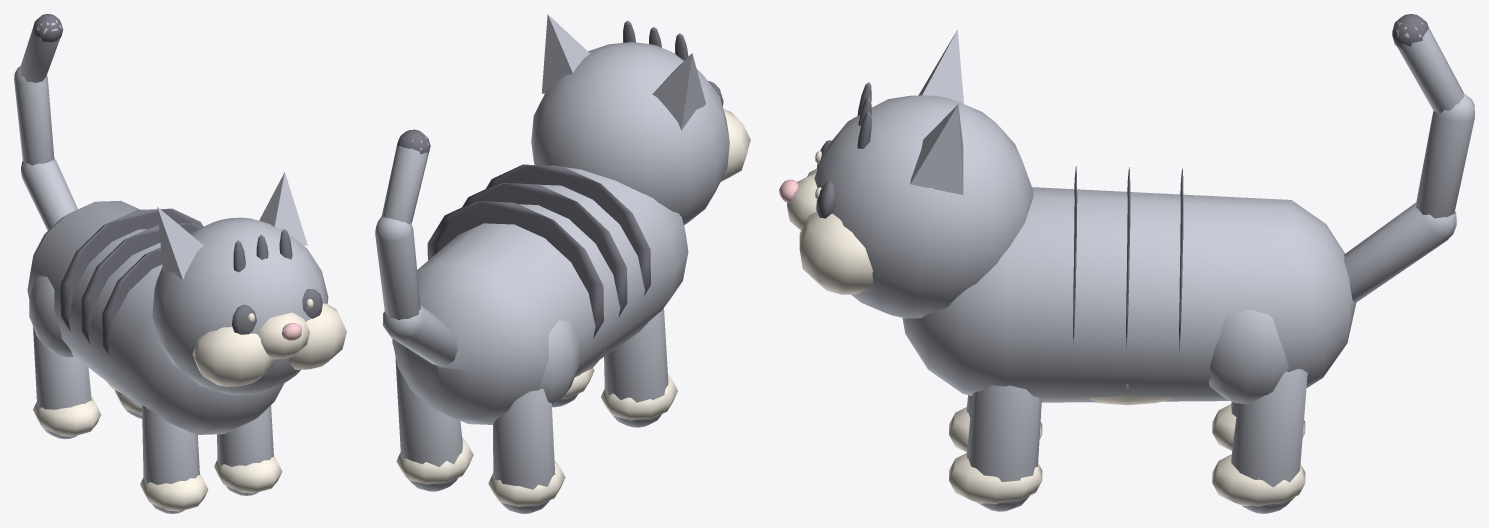
File: companion-animals-and-pet-home-kitten-standing-f51f29de__20564.glb
3 renders of one model, left to right at view 1: azimuth 30°, elevation 25°; view 2: azimuth 150°, elevation 25°; view 3: azimuth 270°, elevation 25°, orthographic. The views are drawn at different scales.
Parts seen in each view (by area): view 1: kitten-standing; view 2: kitten-standing; view 3: kitten-standing.
Part boxes in pixels (<box>): kitten-standing: <box>14,14,346,513</box>; kitten-standing: <box>375,14,750,513</box>; kitten-standing: <box>779,14,1474,513</box>.
Size of the model in its own units: 0.1516 by 0.3433 by 0.4609.
